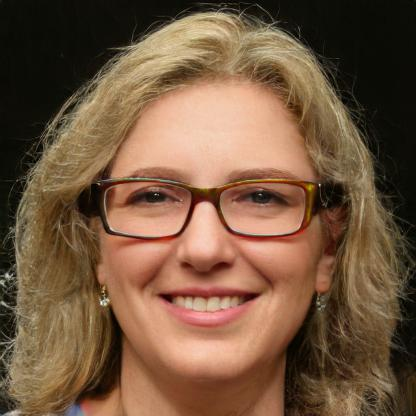glasses: (92, 175, 322, 243)
